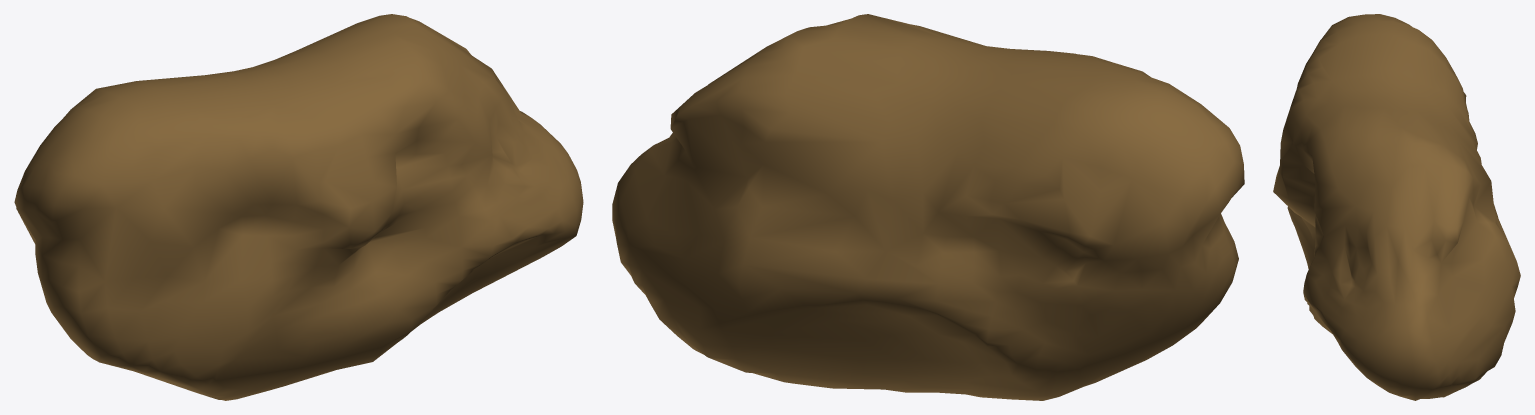
3 views of the same model, side by side, from view 1: azimuth 30°, elevation 25°; view 2: azimuth 150°, elevation 25°; view 3: azimuth 270°, elevation 25° (orthographic). The views are drawn at different scales.
Visible parts, largest first — view 1: Default; view 2: Default; view 3: Default.
Boxes of the visible parts, <box> form: Default: <box>14,14,583,400</box>; Default: <box>612,14,1244,400</box>; Default: <box>1273,14,1520,400</box>.
Size of the model in its own units: 227 by 127 by 110.
